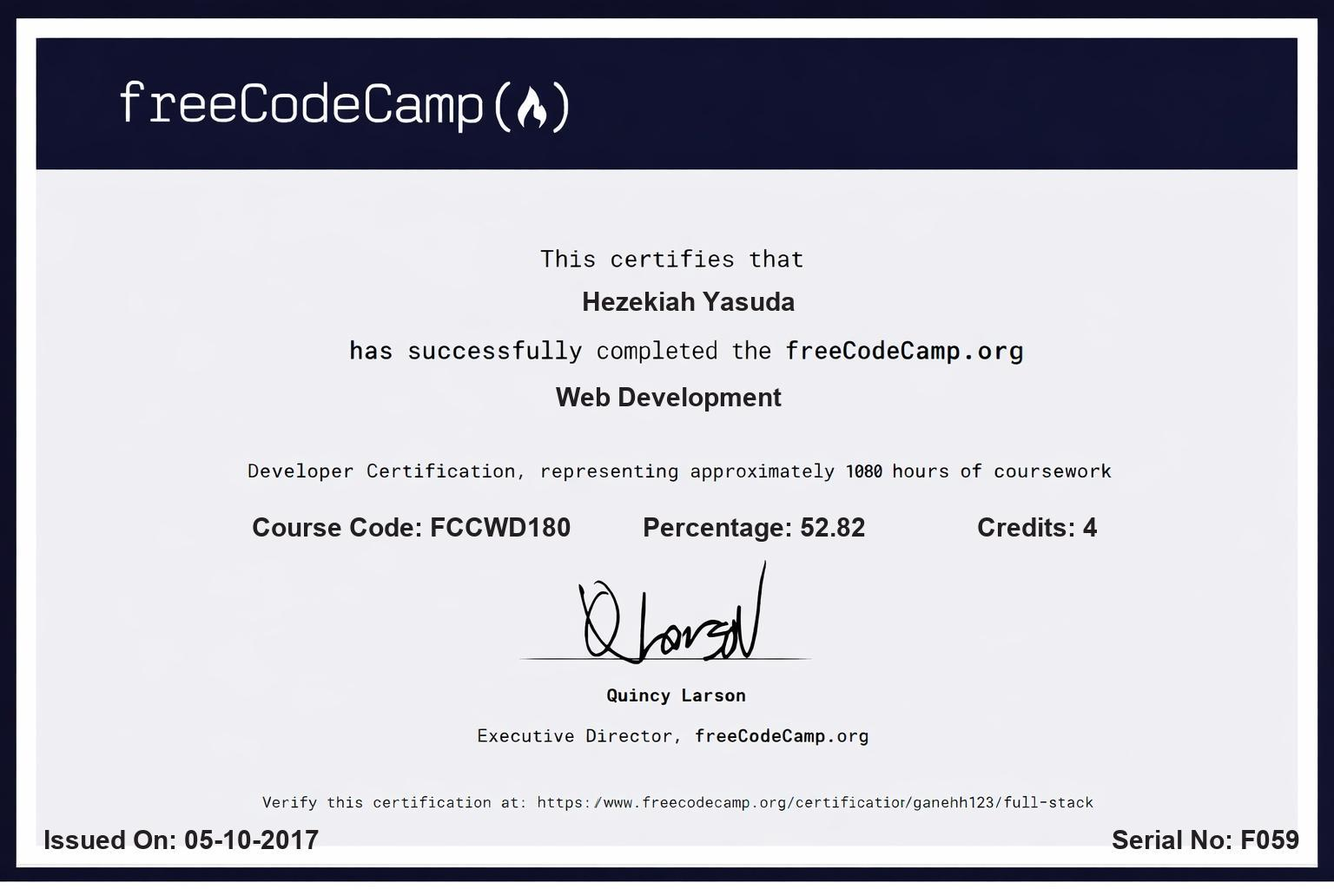Course Code: (424, 507, 588, 553)
Course Name: (549, 374, 791, 421)
Credits: (1078, 508, 1107, 549)
Issued On: (181, 819, 326, 857)
Percentage: (795, 504, 877, 551)
Serial No: (1235, 821, 1307, 860)
Student Name: (573, 281, 801, 324)
